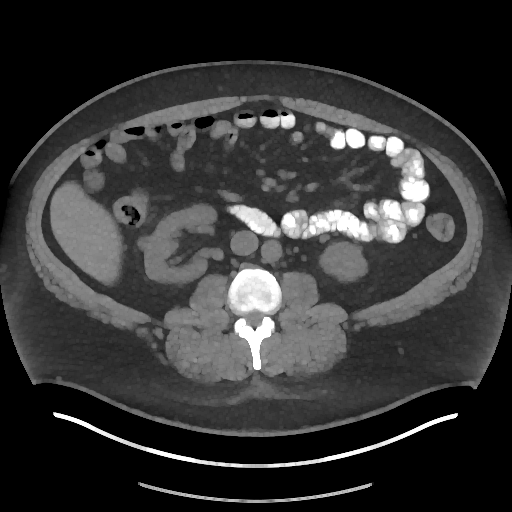Lesion: (136, 234, 157, 252)
